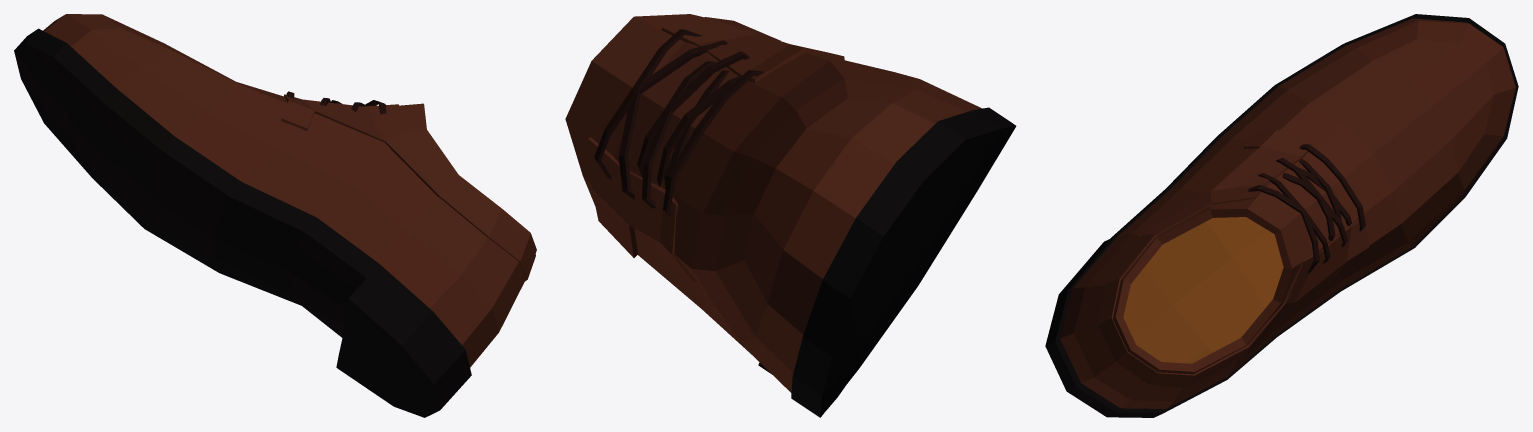
3 renders of one model, left to right at view 1: azimuth 30°, elevation 25°; view 2: azimuth 150°, elevation 25°; view 3: azimuth 270°, elevation 25°, orthographic. The views are drawn at different scales.
Visible parts, largest first — view 1: shoes.010; view 2: shoes.010; view 3: shoes.010.
Part boxes in pixels (box(x1,y1,x2,y2)): shoes.010: box(14, 14, 536, 417); shoes.010: box(565, 14, 1016, 417); shoes.010: box(1045, 14, 1518, 417).
Size of the model in its own units: 0.5848 by 0.5189 by 0.7043.
